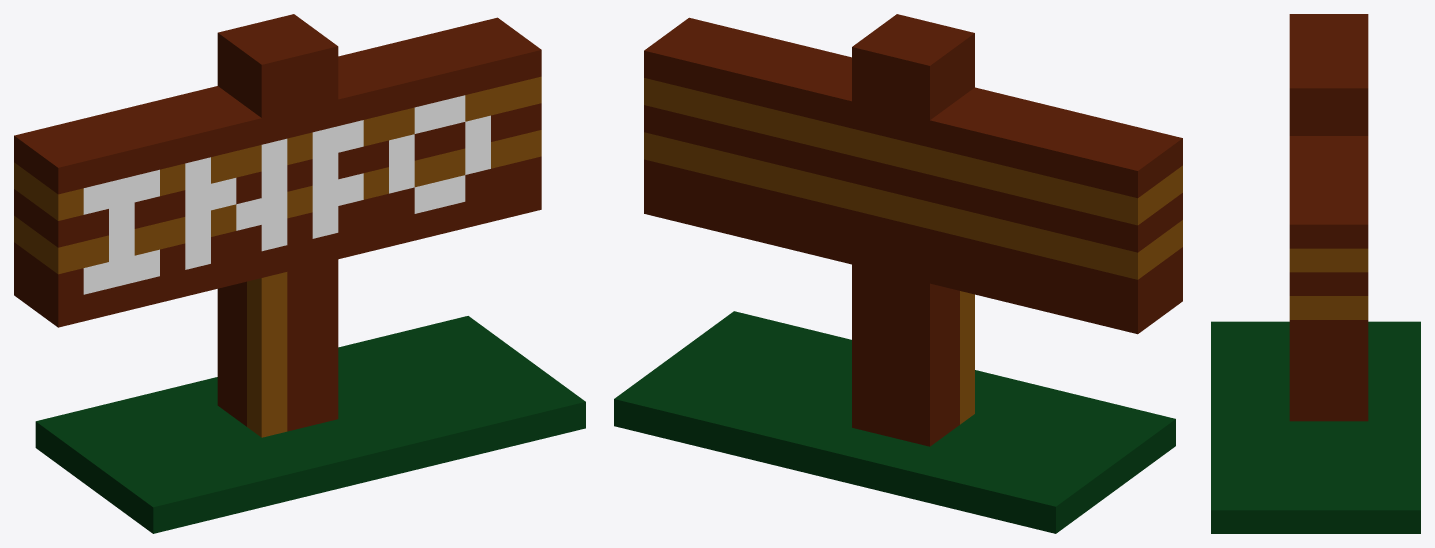
File: info.glb
3 renders of one model, left to right at view 1: azimuth 30°, elevation 25°; view 2: azimuth 150°, elevation 25°; view 3: azimuth 270°, elevation 25°, orthographic. The views are drawn at different scales.
Visible parts, largest first — view 1: Node1; view 2: Node1; view 3: Node1.
Part boxes in pixels (<box>): Node1: <box>14,14,585,533</box>; Node1: <box>614,14,1182,533</box>; Node1: <box>1211,14,1420,533</box>.
Size of the model in its own units: 1.9 by 1.5 by 0.8.
1 material, 1 textured.
